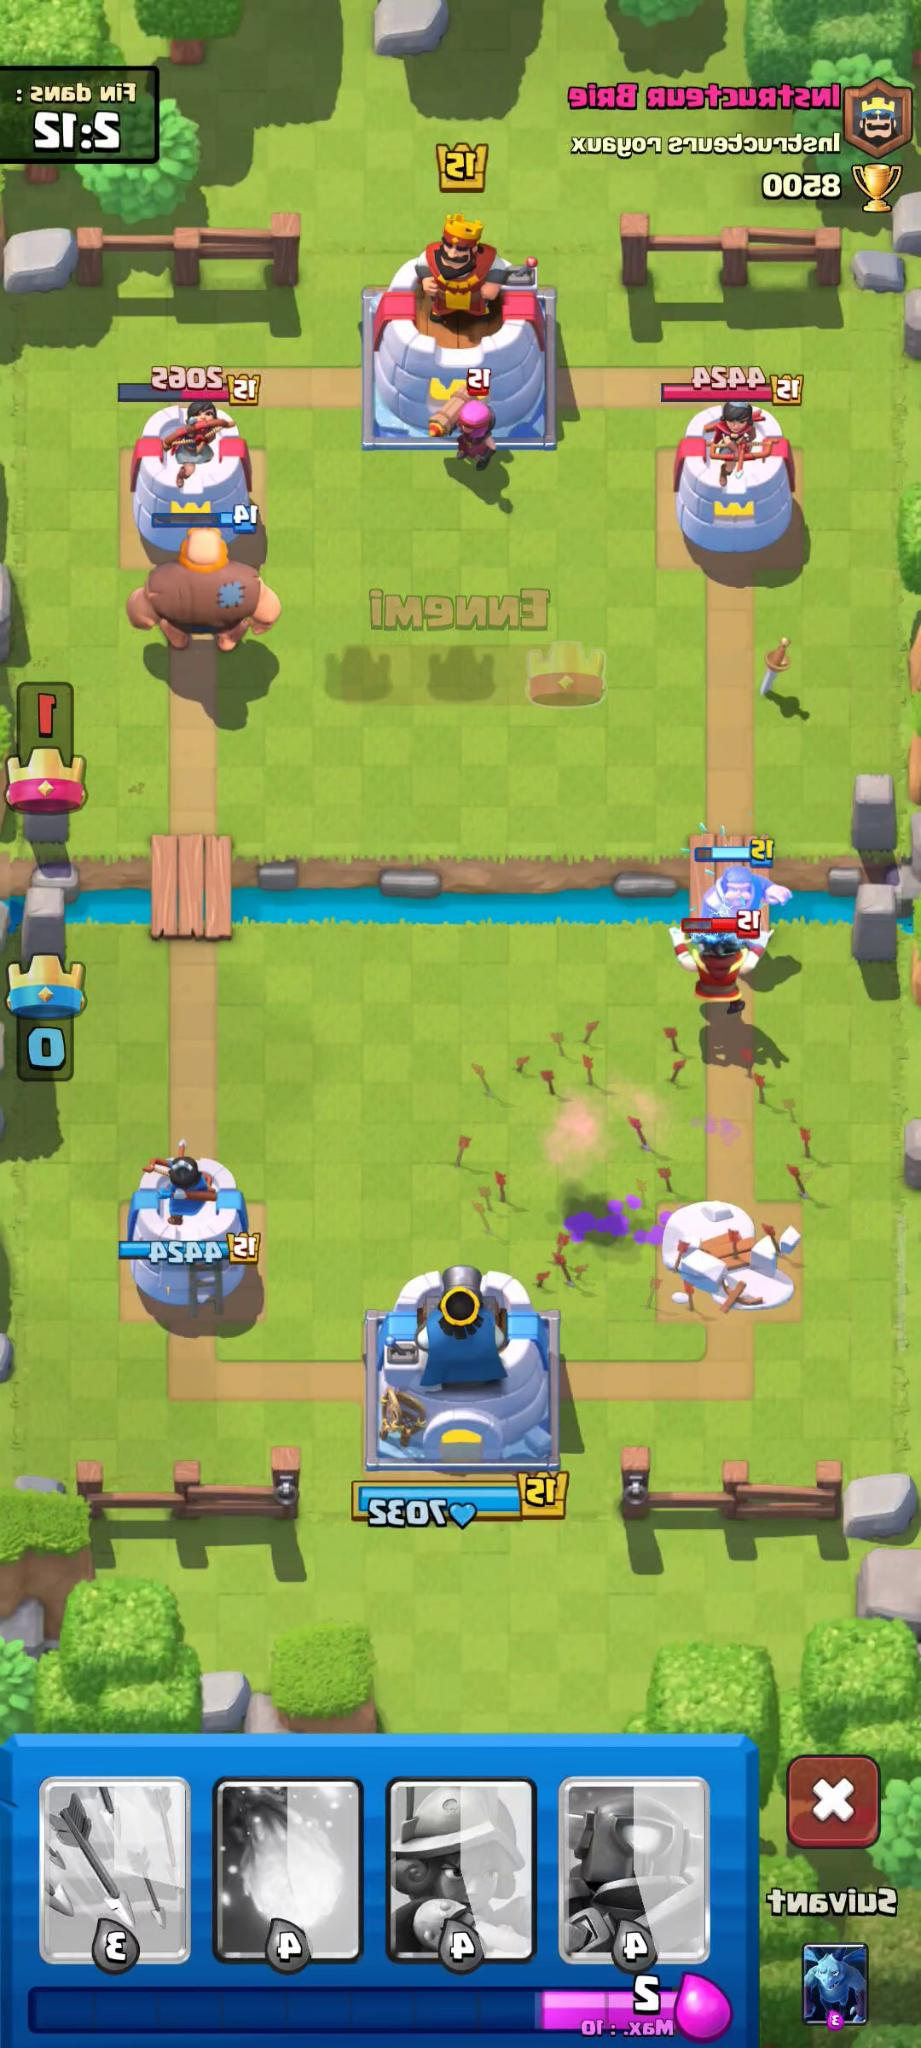chevalier: (670, 842, 805, 978)
